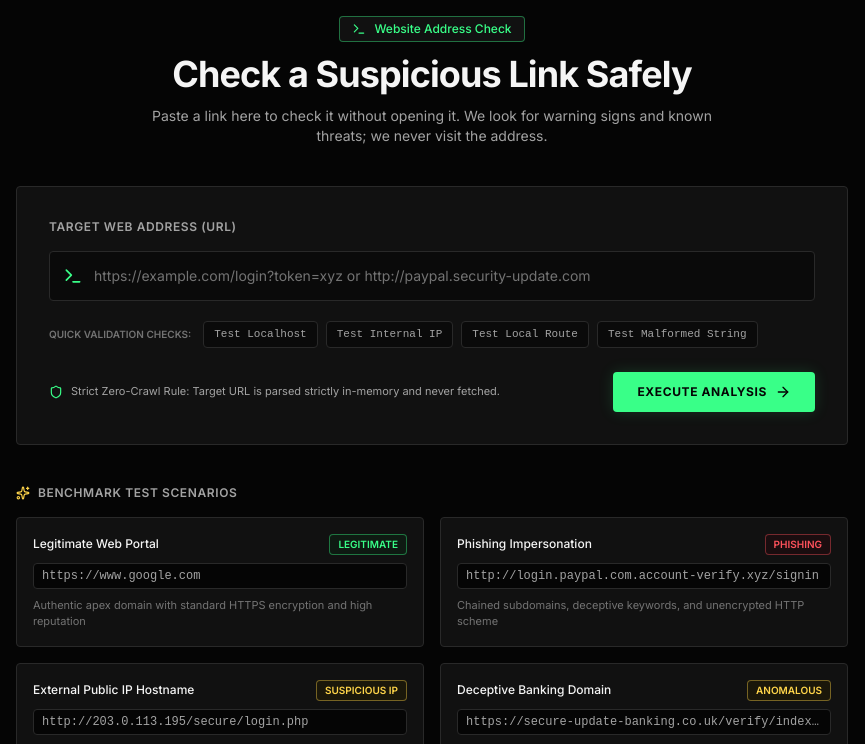
Test: ScannerPage › shows a validation error for a localhost URL
Replace the text in the field with "http://localhost:8000" at point(432, 276), box [49, 251, 815, 301]
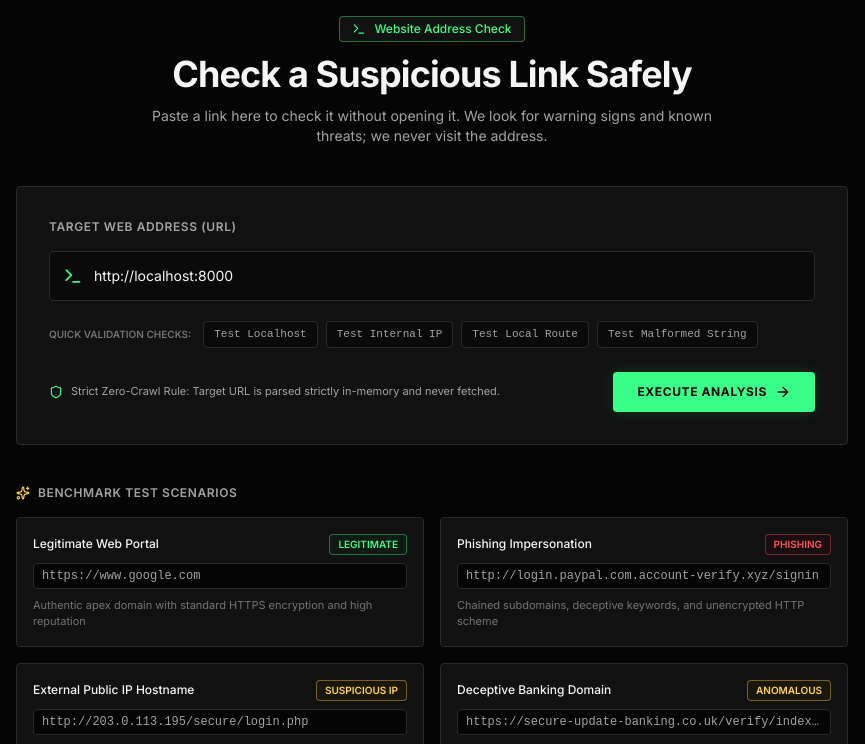
Submit the form, box [49, 219, 815, 412]
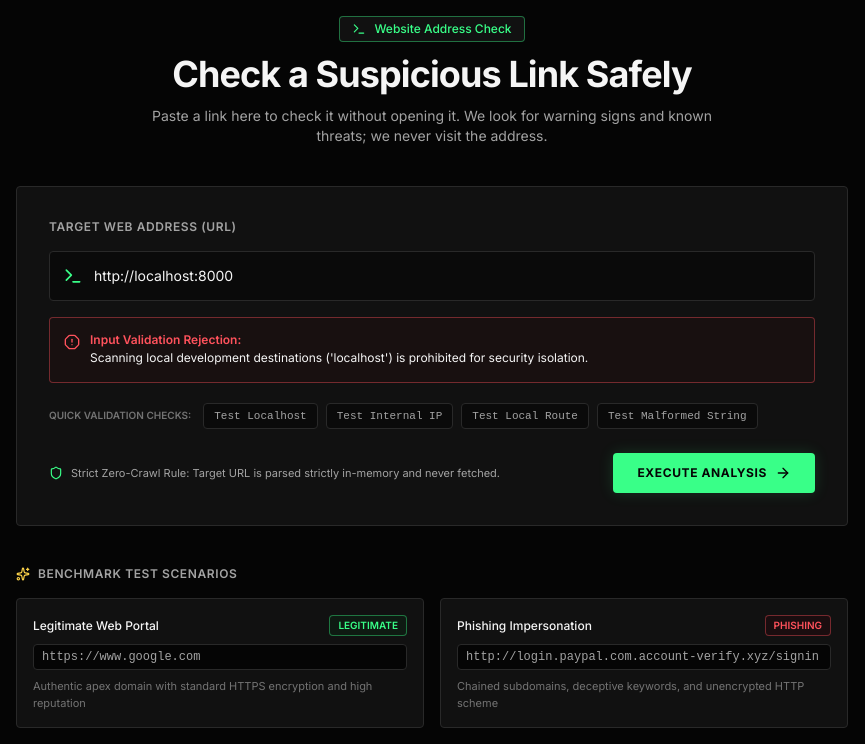
expect the text "local development destinations" is shown: met, box [90, 350, 588, 365]
